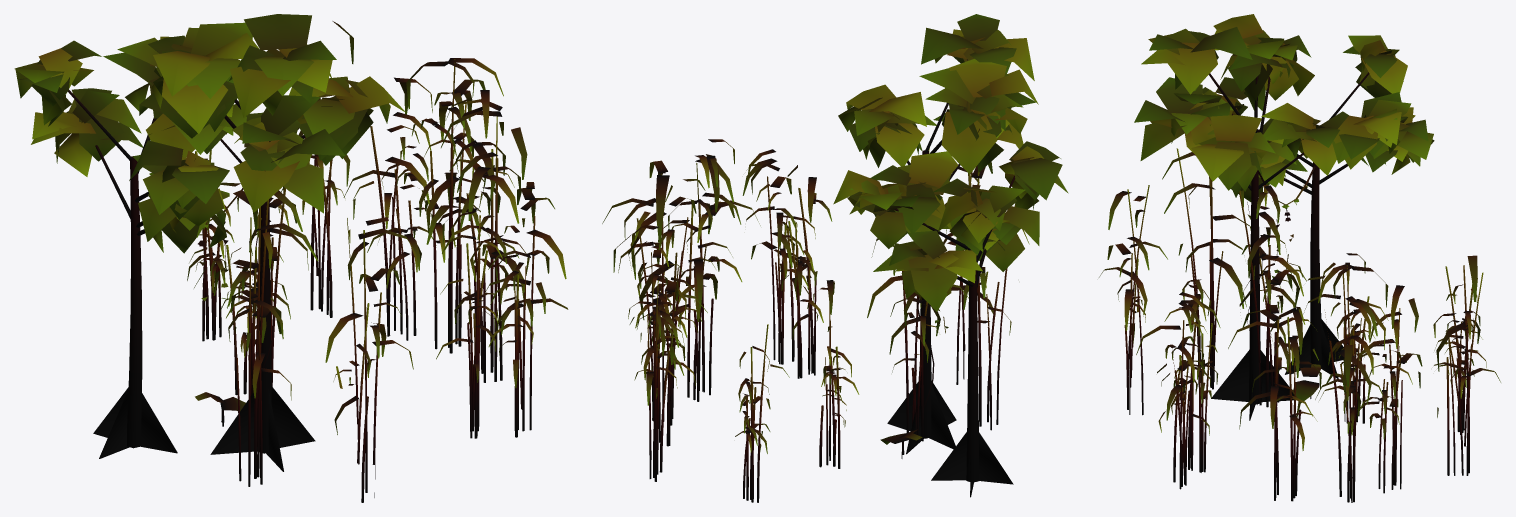
File: patch_bamboo_grove_far.glb
The picture shows the model from 3 angles, left to right: view 1: azimuth 30°, elevation 25°; view 2: azimuth 150°, elevation 25°; view 3: azimuth 270°, elevation 25°; orthographic projection. The views are drawn at different scales.
Parts seen in each view (by area): view 1: patch_bamboo_grove_far; view 2: patch_bamboo_grove_far; view 3: patch_bamboo_grove_far.
Boxes of the visible parts, box(x1,y1,x2,y2) form: patch_bamboo_grove_far: box(14, 14, 568, 502); patch_bamboo_grove_far: box(602, 14, 1068, 502); patch_bamboo_grove_far: box(1099, 14, 1500, 502).
Bounding box in the file's own units: 12.76 × 11.59 × 11.68.
1 material, 1 textured.
